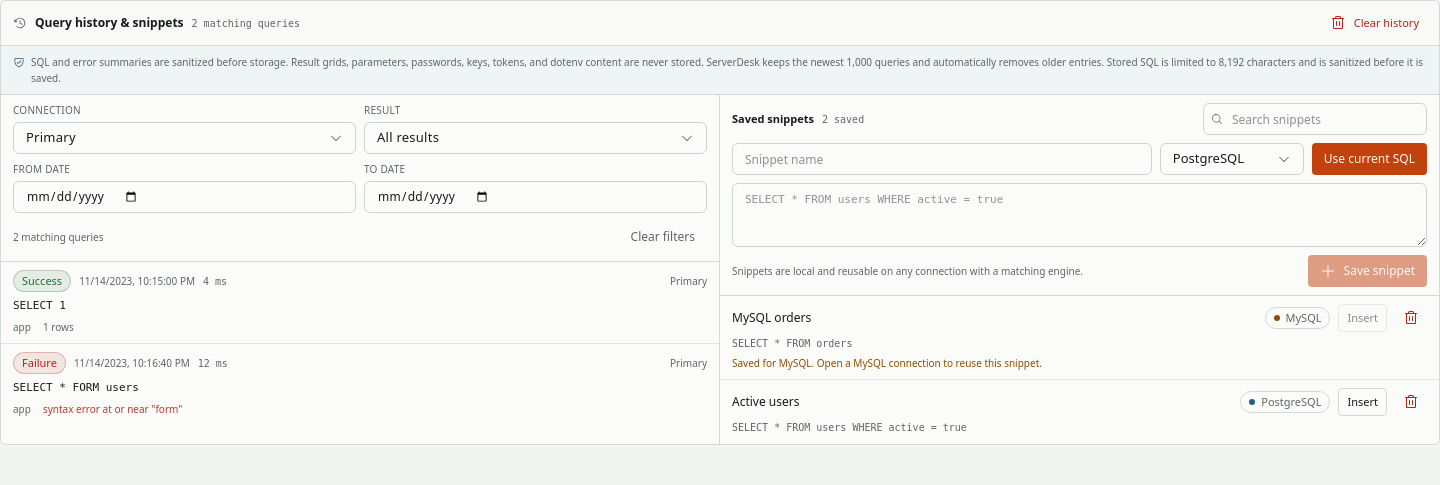
Test case: DatabaseSqlHistoryPanel › inserts a compatible snippet into the current query tab
This screenshot has width=1440, height=485.
Expected: the text "Active users" is shown, [732,393,800,410]
Click the button with aria-label "Insert snippet Active users" at (1363,402), box [1338,388,1387,416]
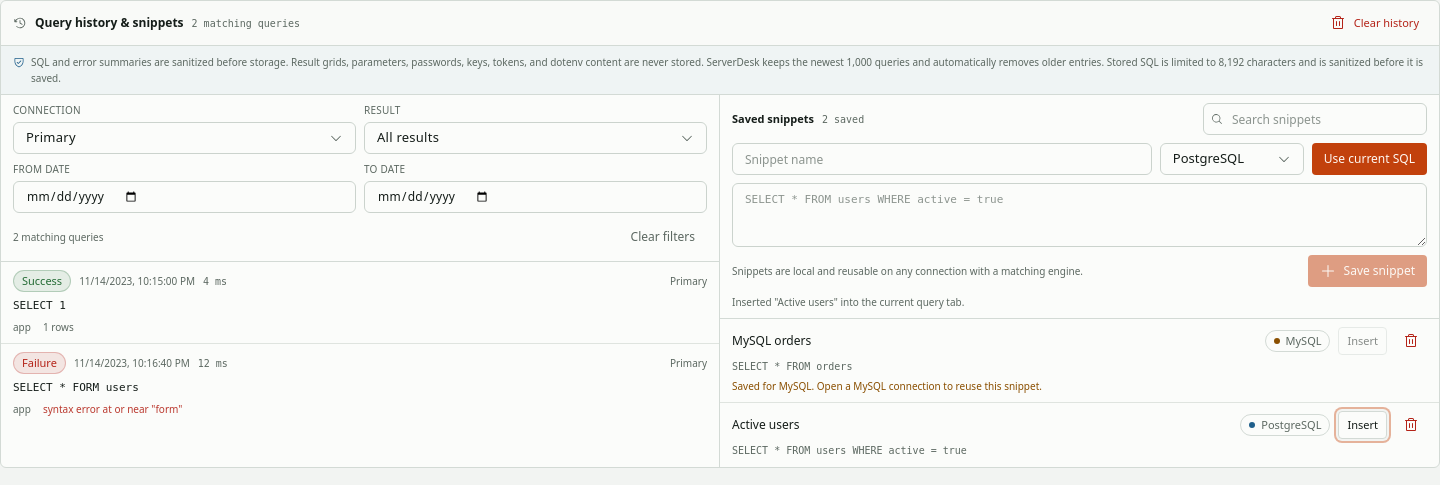
Expected: the message reads "Inserted \"Active users\" into the current query tab.", [732,295,964,309]
